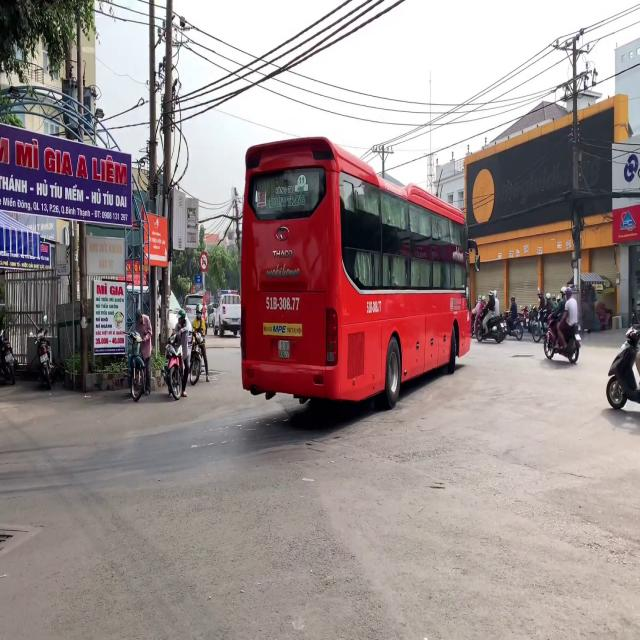bien_trang: (278, 338, 290, 358)
